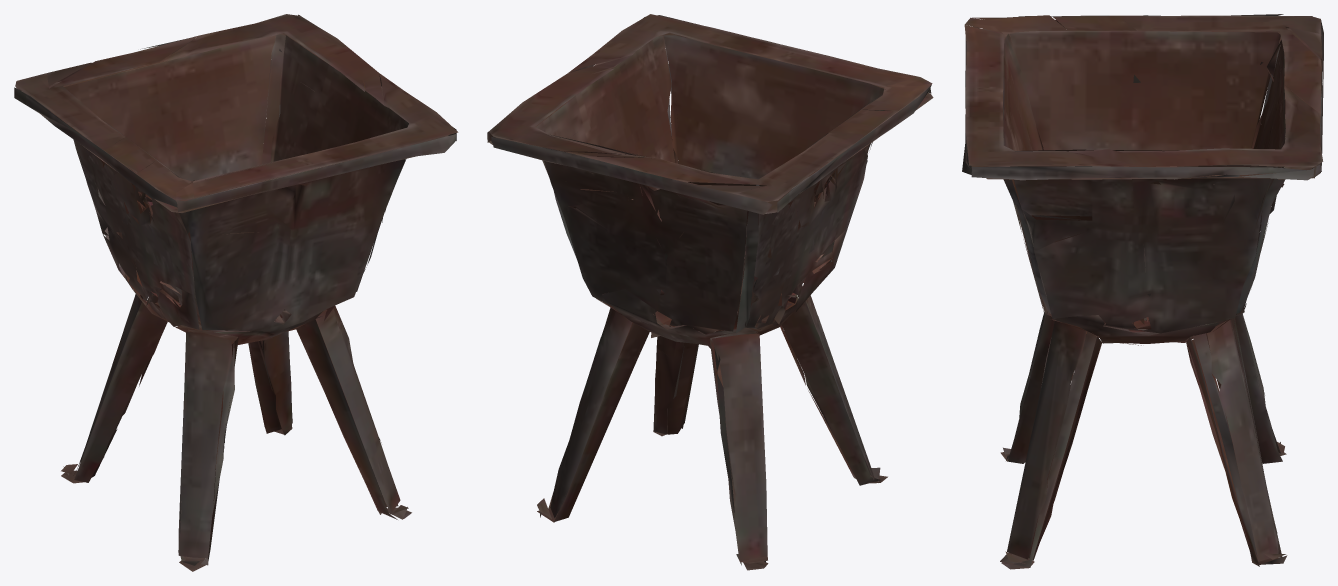
The model's file is brazier-game.glb.
3 renders of one model, left to right at view 1: azimuth 30°, elevation 25°; view 2: azimuth 150°, elevation 25°; view 3: azimuth 270°, elevation 25°, orthographic. The views are drawn at different scales.
Visible parts, largest first — view 1: geometry_0; view 2: geometry_0; view 3: geometry_0.
Boxes of the visible parts, box(x1,y1,x2,y2) form: geometry_0: box(14, 14, 458, 571); geometry_0: box(487, 14, 933, 570); geometry_0: box(962, 14, 1323, 569).
Size of the model in its own units: 0.7795 by 1.01 by 0.7814.
Materials: 1 (1 with a texture image).
